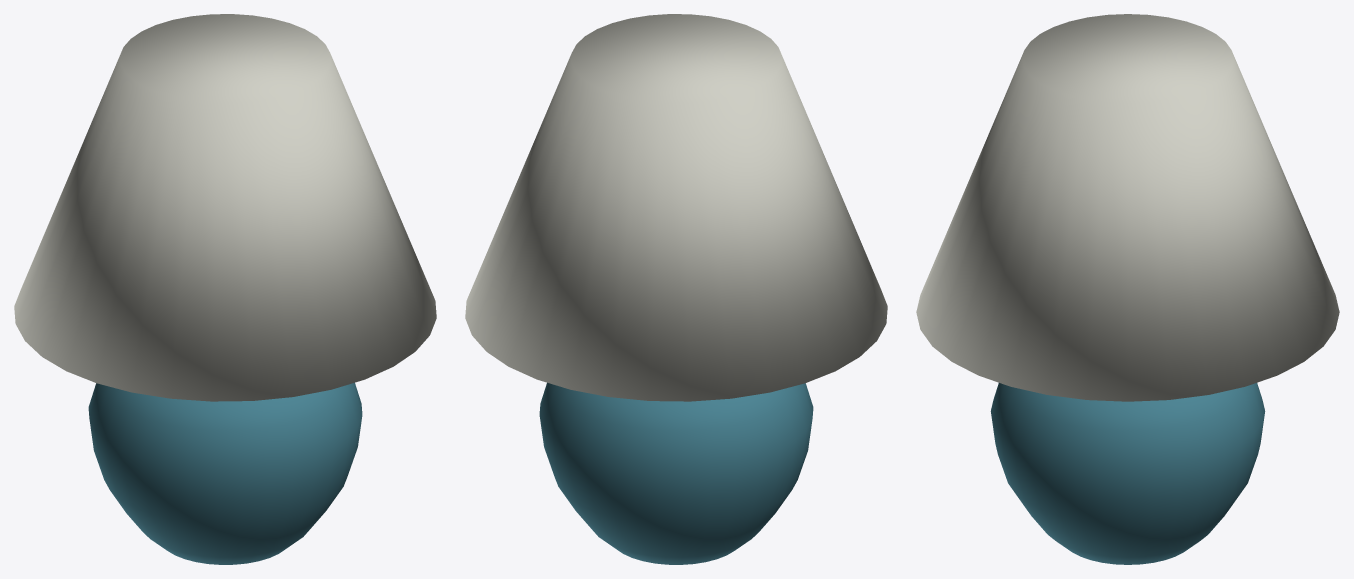
The model's file is 9_LAMPSHADE.fbx.
The picture shows the model from 3 angles, left to right: view 1: azimuth 30°, elevation 25°; view 2: azimuth 150°, elevation 25°; view 3: azimuth 270°, elevation 25°; orthographic projection.
Parts seen in each view (by area): view 1: Cylinder; view 2: Cylinder; view 3: Cylinder.
Boxes of the visible parts, x1,y1,x2,y2 form: Cylinder: [14, 14, 436, 564]; Cylinder: [465, 14, 887, 564]; Cylinder: [916, 14, 1339, 564].
Size of the model in its own units: 223 by 285 by 223.
